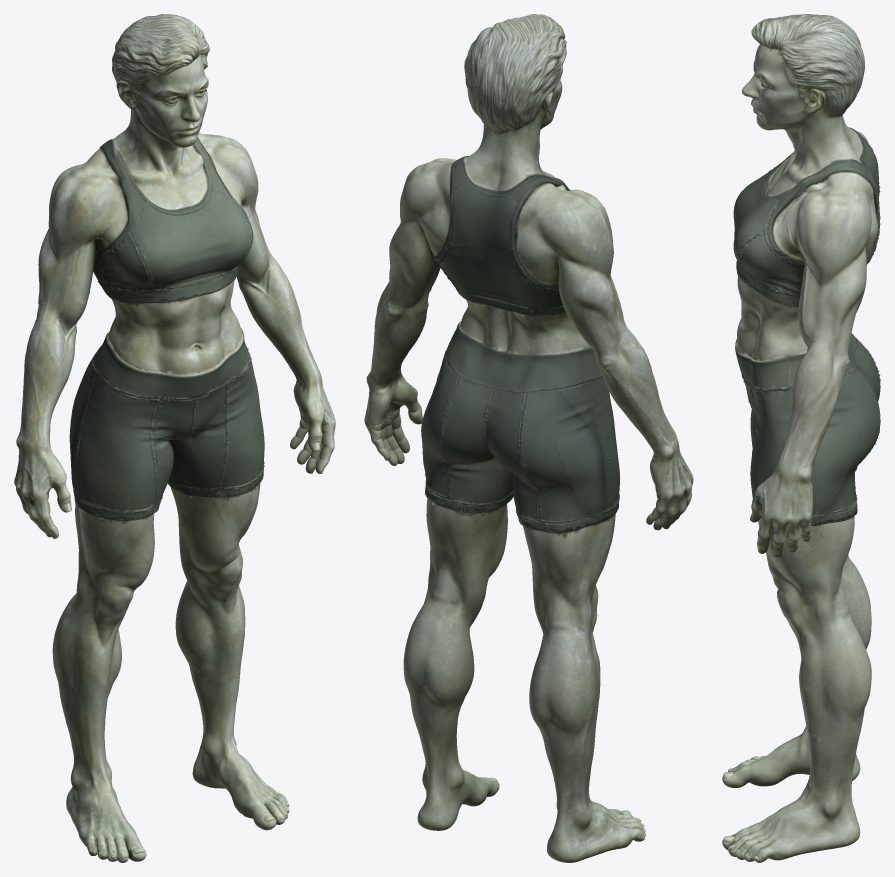
File: adult-female-v4-CS1pv8qY.glb
3 renders of one model, left to right at view 1: azimuth 30°, elevation 25°; view 2: azimuth 150°, elevation 25°; view 3: azimuth 270°, elevation 25°, orthographic. The views are drawn at different scales.
Visible parts, largest first — view 1: TeachingBody; view 2: TeachingBody; view 3: TeachingBody.
Boxes of the visible parts, x1,y1,x2,y2 form: TeachingBody: (14, 14, 335, 862); TeachingBody: (364, 14, 693, 862); TeachingBody: (722, 14, 880, 862).
Size of the model in its own units: 0.6957 by 1.7 by 0.3043.
1 material, 1 textured.
